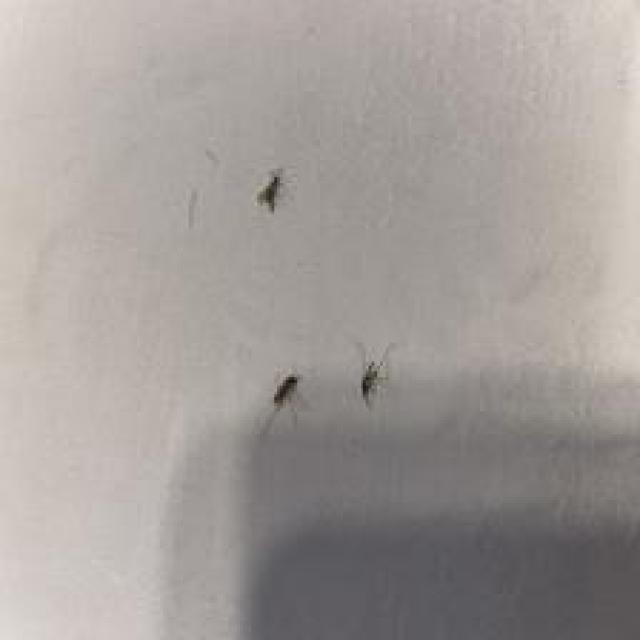Culex: (257, 170, 283, 213)
